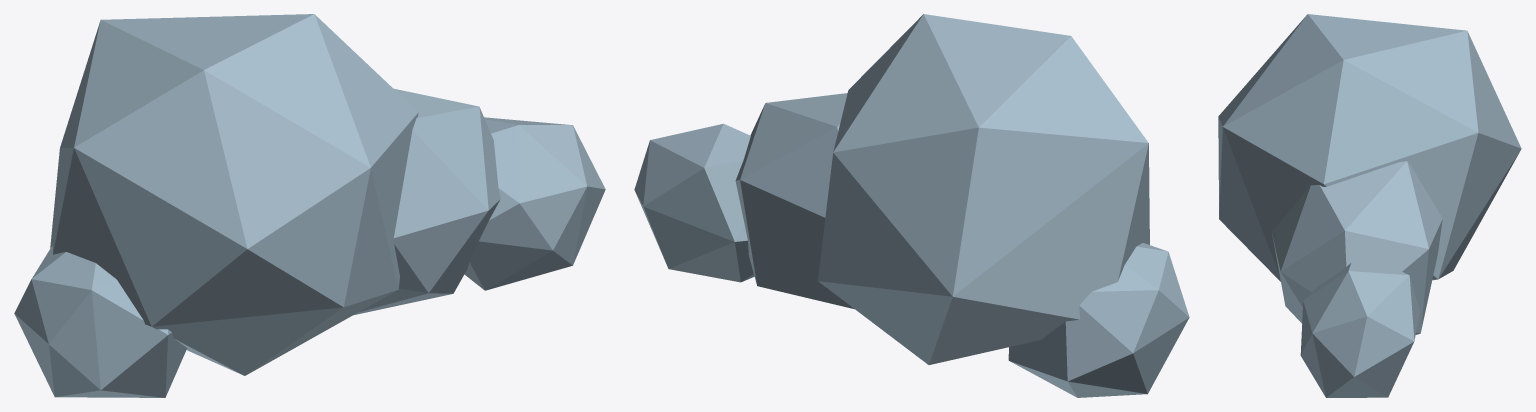
Rendered from small_cloud_38.fbx.
The picture shows the model from 3 angles, left to right: view 1: azimuth 30°, elevation 25°; view 2: azimuth 150°, elevation 25°; view 3: azimuth 270°, elevation 25°; orthographic projection. The views are drawn at different scales.
Visible parts, largest first — view 1: cloud_8; view 2: cloud_8; view 3: cloud_8.
Part boxes in pixels (<box>): cloud_8: <box>14,14,605,397</box>; cloud_8: <box>634,14,1189,397</box>; cloud_8: <box>1218,14,1521,397</box>.
Size of the model in its own units: 408 by 236 by 236.
